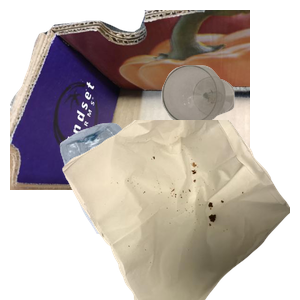cardboard: (10, 10, 250, 190)
glass: (159, 63, 300, 179)
plastic: (57, 120, 284, 300)
trash: (60, 120, 300, 300)
